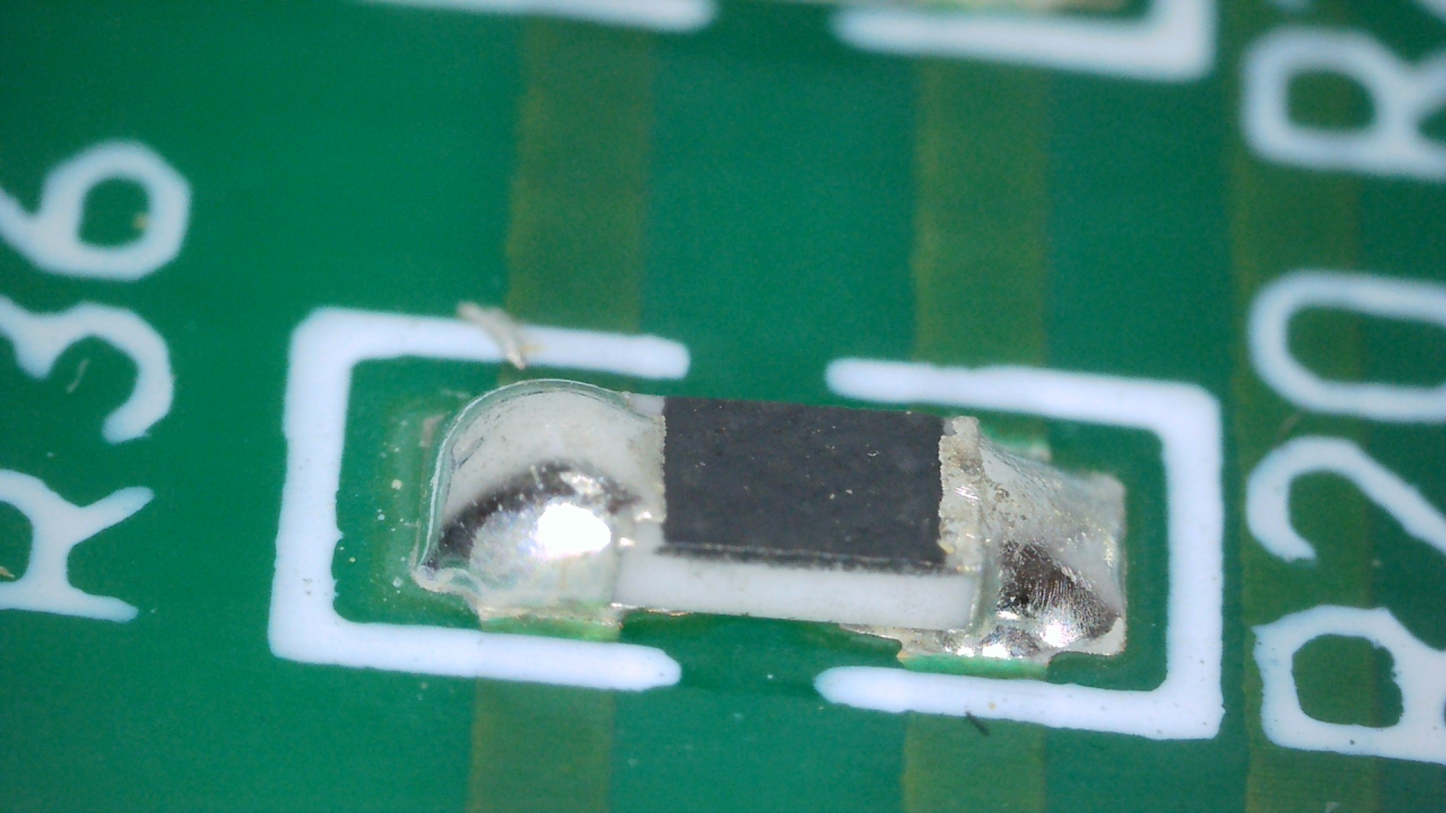NG: (420, 380, 664, 628)
OK: (840, 415, 1123, 663)
